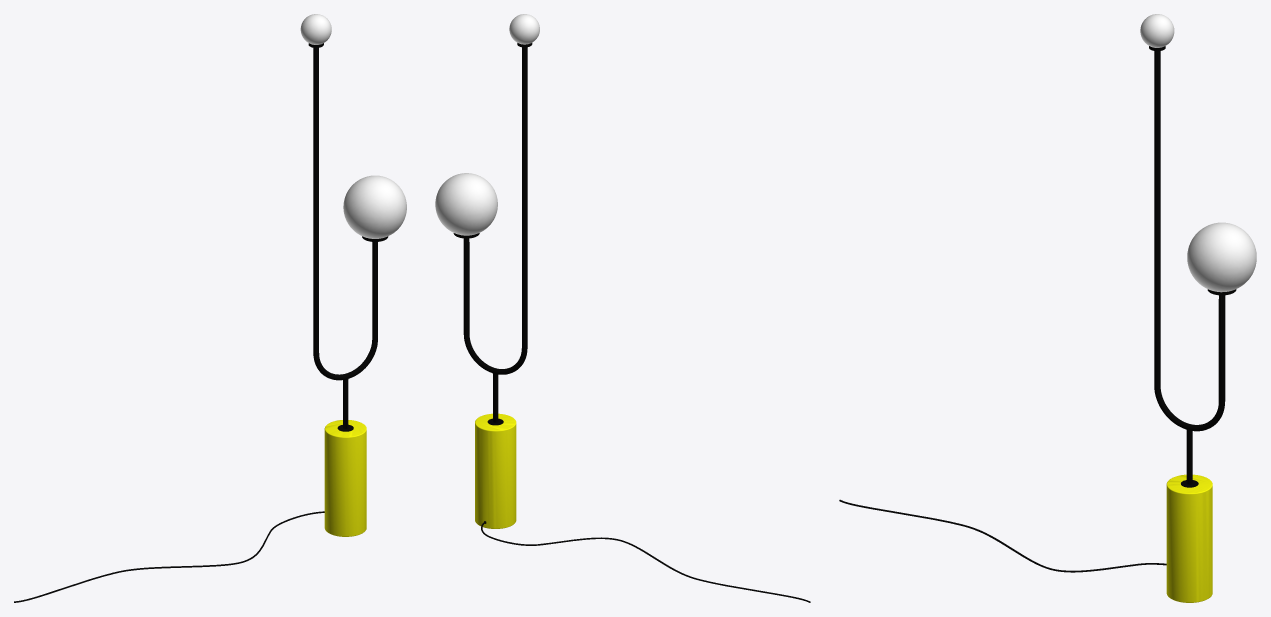
The model's file is designconnected-arancini-floor-lamp-9045.optimized.glb.
3 views of the same model, side by side, from view 1: azimuth 30°, elevation 25°; view 2: azimuth 150°, elevation 25°; view 3: azimuth 330°, elevation 25° (orthographic). The views are drawn at different scales.
Parts seen in each view (by area): view 1: Moda_Piera_Arancini_Floor_Lamp_mat1; view 2: Moda_Piera_Arancini_Floor_Lamp_mat1; view 3: Moda_Piera_Arancini_Floor_Lamp_mat1.
Part boxes in pixels (x1,y1,x2,y2): Moda_Piera_Arancini_Floor_Lamp_mat1: [14, 14, 406, 602]; Moda_Piera_Arancini_Floor_Lamp_mat1: [435, 14, 810, 602]; Moda_Piera_Arancini_Floor_Lamp_mat1: [839, 14, 1256, 602].
Size of the model in its own units: 1.36 by 1.77 by 0.2342.
